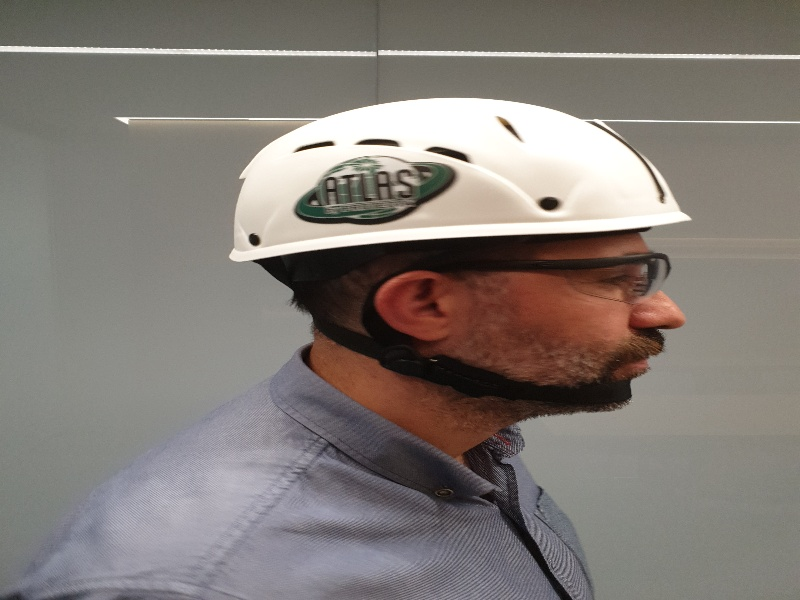Baret: (230, 96, 689, 246)
Gozluk: (463, 253, 675, 302)
